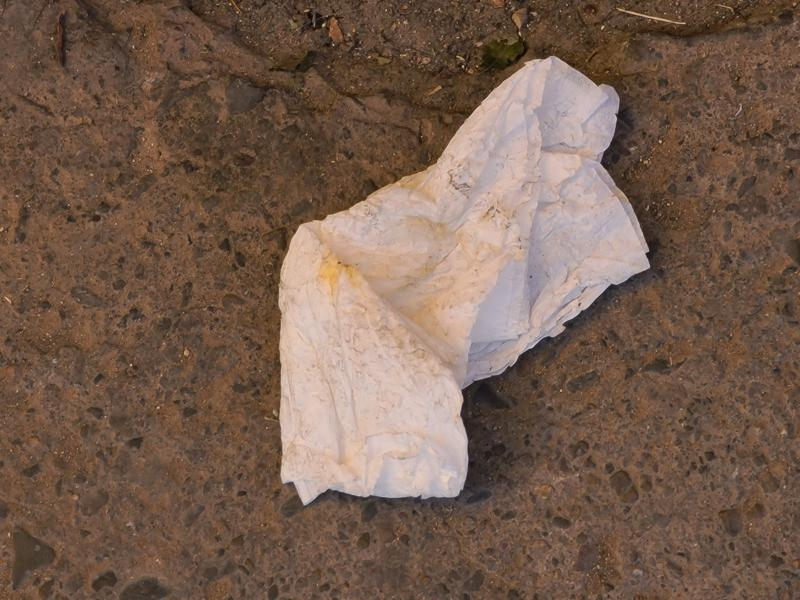papel: (277, 57, 650, 510)
